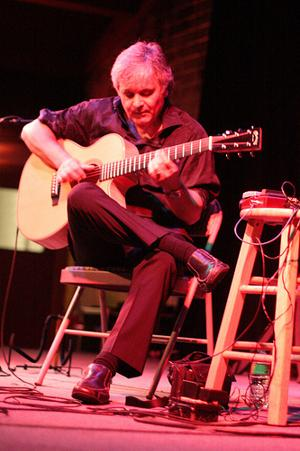person: (20, 41, 231, 407)
